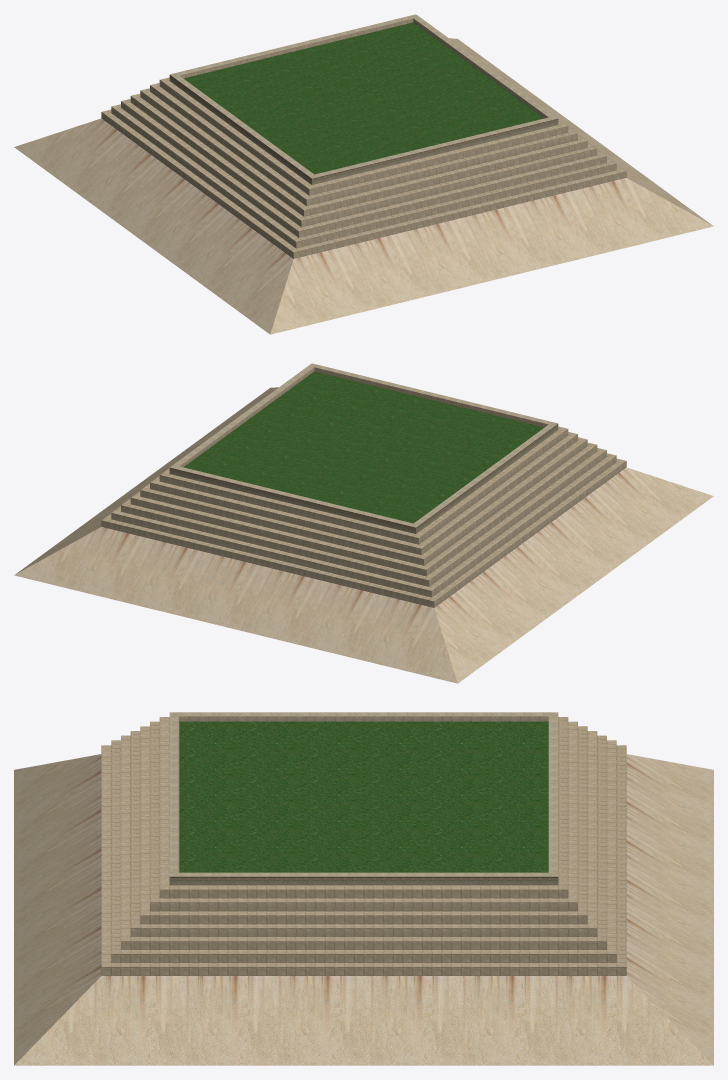
The model's file is ply_nboo_garden_sml_s01_l0.fbx.
The picture shows the model from 3 angles, top to bottom: view 1: azimuth 30°, elevation 25°; view 2: azimuth 150°, elevation 25°; view 3: azimuth 270°, elevation 25°; orthographic projection. The views are drawn at different scales.
Visible parts, largest first — view 1: mesh_node; view 2: mesh_node; view 3: mesh_node.
Part boxes in pixels (left/top/right/bottom): mesh_node: left=14, top=14, right=713, bottom=334; mesh_node: left=14, top=363, right=713, bottom=683; mesh_node: left=14, top=712, right=713, bottom=1065.
Bounding box in the file's own units: 18 × 3.5 × 18.
